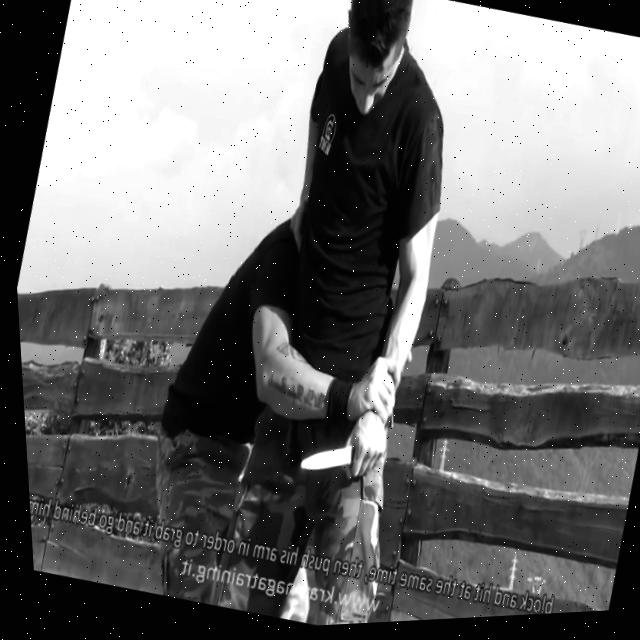knife: (285, 435, 351, 486)
